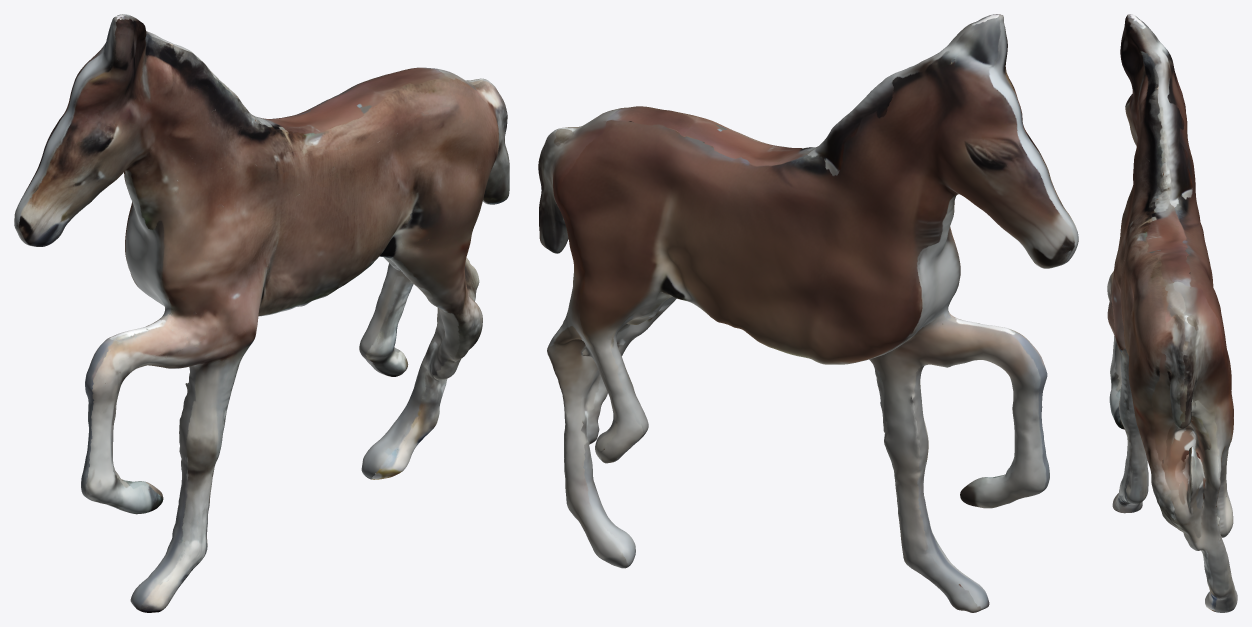
File: bebe.glb
The picture shows the model from 3 angles, left to right: view 1: azimuth 30°, elevation 25°; view 2: azimuth 150°, elevation 25°; view 3: azimuth 270°, elevation 25°; orthographic projection. The views are drawn at different scales.
Parts seen in each view (by area): view 1: mesh; view 2: mesh; view 3: mesh.
Boxes of the visible parts, x1,y1,x2,y2 form: mesh: (14,14,509,612); mesh: (538,14,1078,612); mesh: (1107,14,1237,612).
Bounding box in the file's own units: 1.54 × 1.71 × 0.4176.
Materials: 1 (1 with a texture image).
